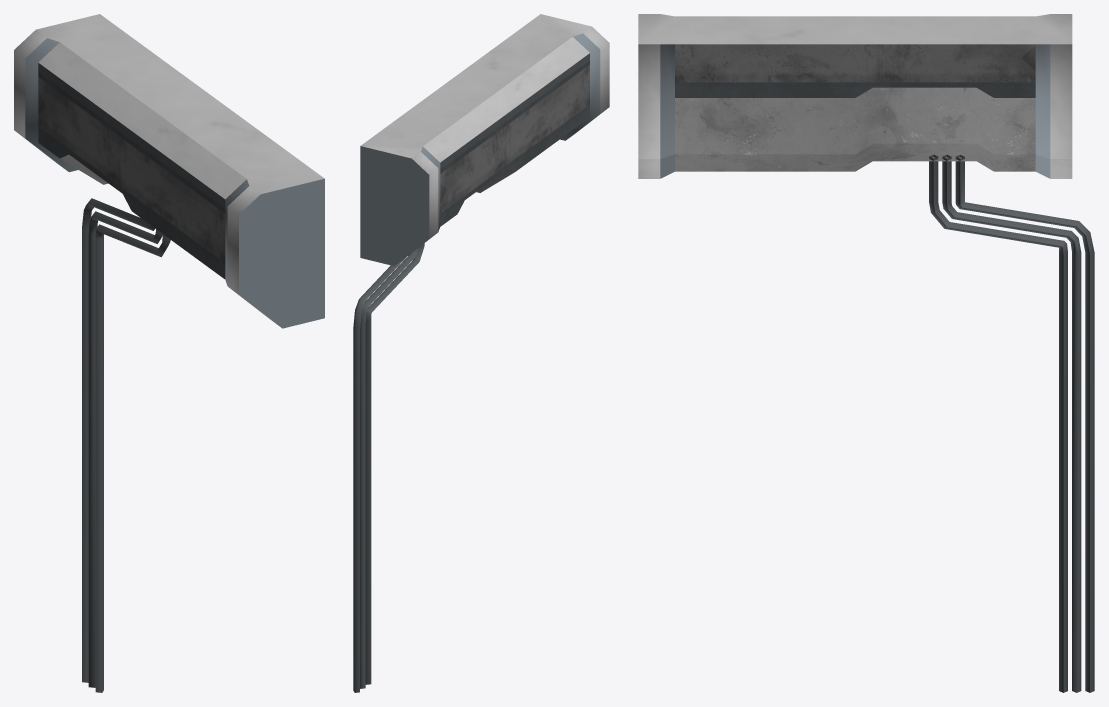
File: Conditioner1.fbx
The picture shows the model from 3 angles, left to right: view 1: azimuth 30°, elevation 25°; view 2: azimuth 150°, elevation 25°; view 3: azimuth 270°, elevation 25°; orthographic projection. The views are drawn at different scales.
Parts seen in each view (by area): view 1: Сonditioner1; view 2: Сonditioner1; view 3: Сonditioner1.
Part boxes in pixels (x1,y1,x2,y2): Сonditioner1: (14,14,324,692); Сonditioner1: (353,14,609,692); Сonditioner1: (638,14,1094,692).
Bounding box in the file's own units: 37.9 × 284 × 181.
